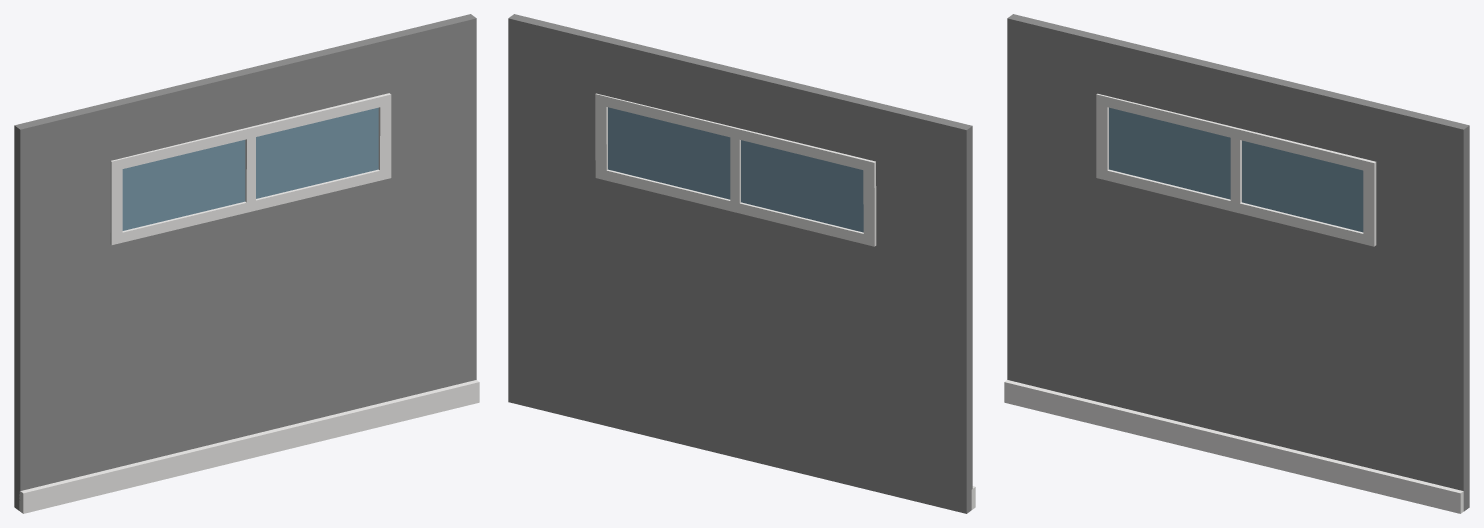
Rendered from Wall_13.fbx.
The picture shows the model from 3 angles, left to right: view 1: azimuth 30°, elevation 25°; view 2: azimuth 150°, elevation 25°; view 3: azimuth 330°, elevation 25°; orthographic projection.
Visible parts, largest first — view 1: Wall_13; view 2: Wall_13; view 3: Wall_13.
Boxes of the visible parts, bbox=[...] form: Wall_13: bbox=[14, 14, 479, 513]; Wall_13: bbox=[508, 14, 975, 513]; Wall_13: bbox=[1004, 14, 1469, 513].
Size of the model in its own units: 490 by 19.82 by 392.
